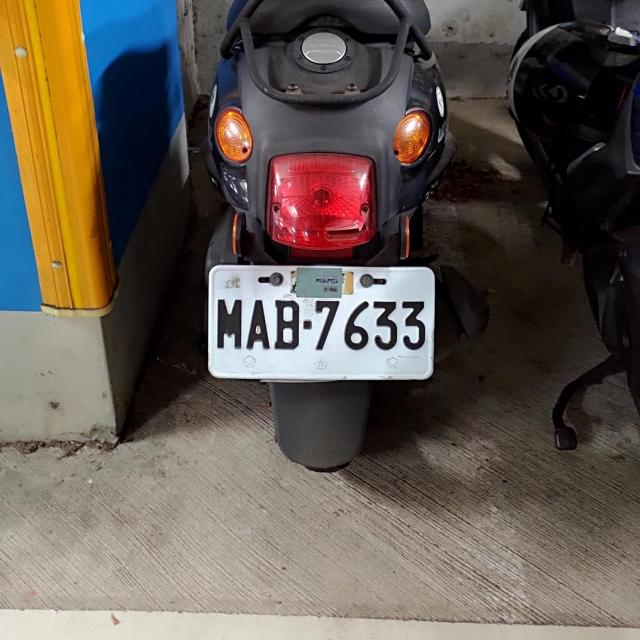W: (207, 261, 438, 384)
